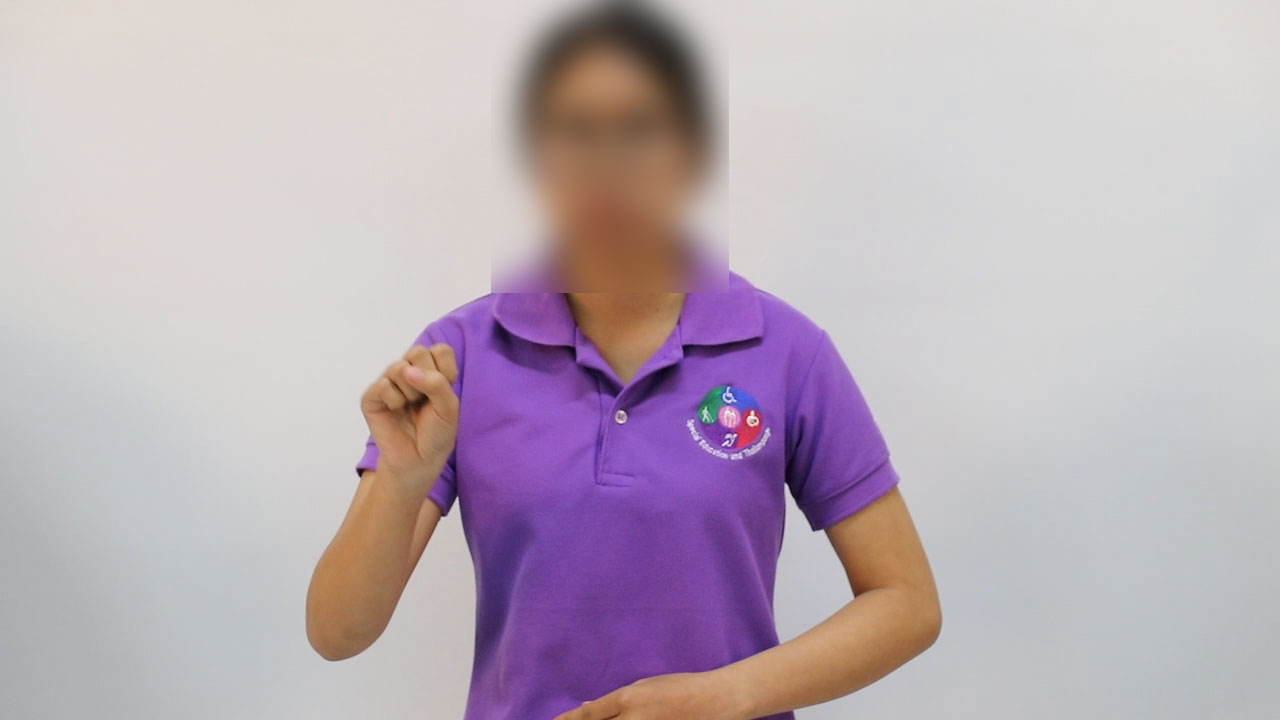sor: (347, 331, 471, 503)
